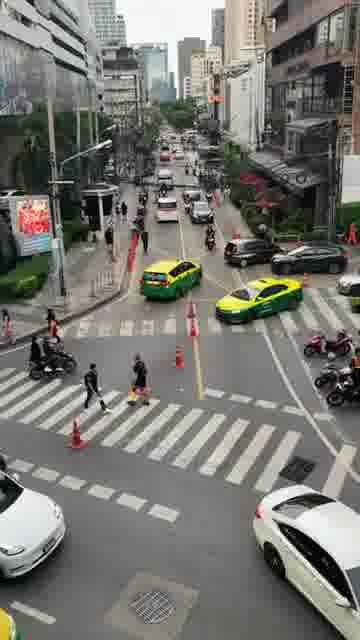bike: (313, 351, 359, 387), (28, 349, 76, 380), (303, 327, 353, 356), (325, 374, 359, 406), (204, 224, 216, 250), (160, 183, 167, 196)
car: (252, 483, 360, 640), (0, 467, 68, 581), (214, 276, 302, 324), (138, 256, 202, 301), (270, 240, 350, 274), (222, 237, 290, 268), (336, 262, 360, 295), (189, 198, 214, 224), (156, 195, 178, 224), (182, 183, 201, 200)
pedestrian: (82, 362, 112, 415), (125, 351, 151, 407), (45, 307, 61, 342), (0, 307, 13, 345), (103, 227, 114, 251), (88, 223, 98, 249), (255, 222, 268, 239), (222, 184, 231, 205), (140, 230, 148, 252), (120, 201, 127, 224), (114, 200, 121, 223)
